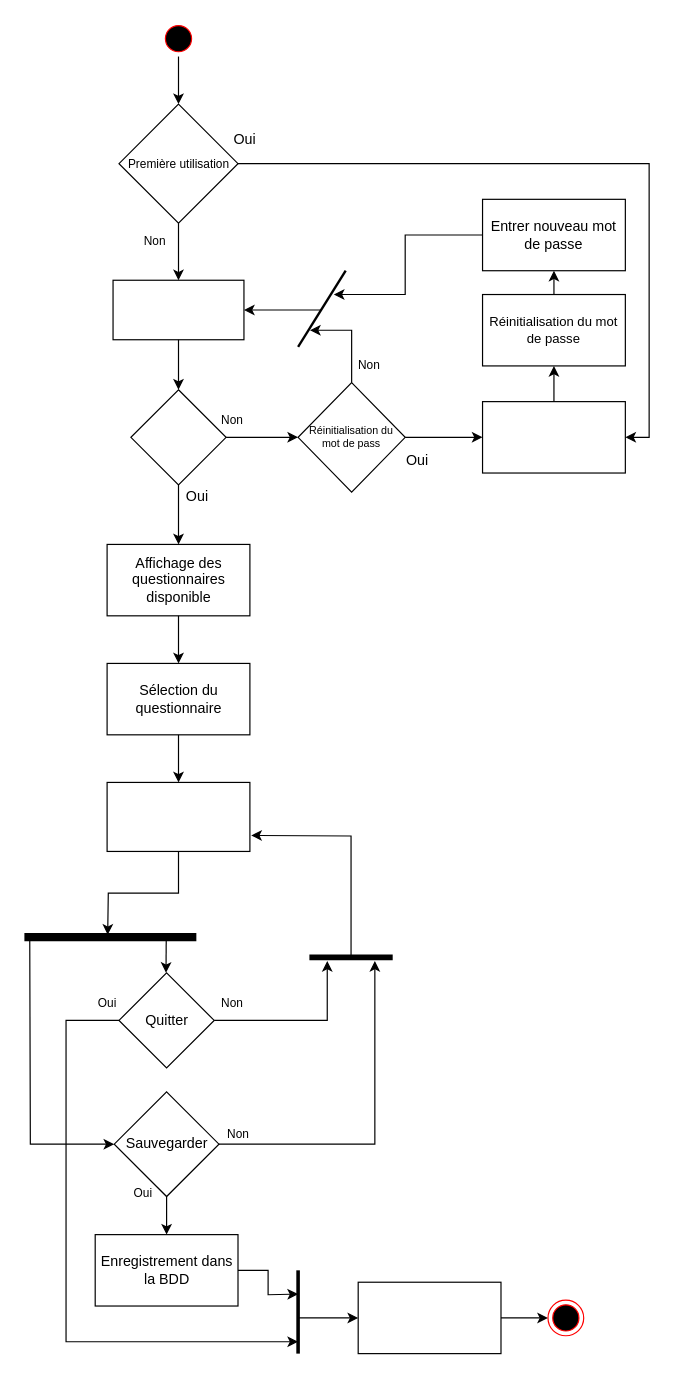
The diagram is 679 pixels wide and 1377 high, and some of its shapes have lost their labels. The shapes that lost their labels are listed below. From the top down, each one's centre as x and y in pixels, then its label:
the point at 178,309: Login
the point at 178,437: Login valid
the point at 553,436: Réception par email d'un lien de réinitialisation de mot de passe
the point at 178,816: Remplir questionnaire
the point at 429,1317: Déconnexion de l'élève
